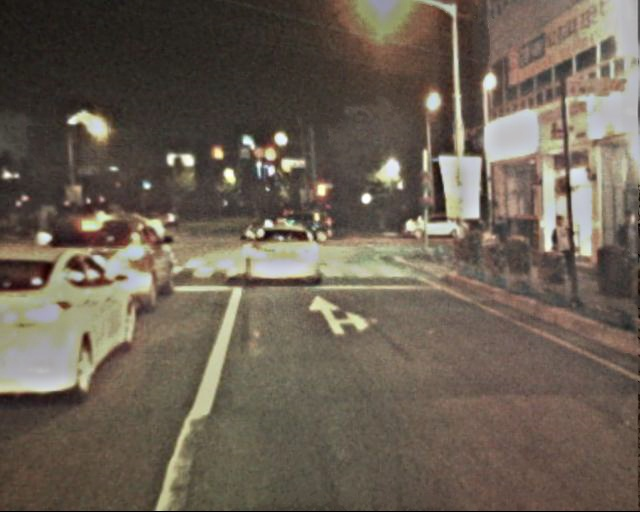person: (611, 210, 640, 302), (546, 214, 576, 287), (24, 207, 63, 237), (449, 216, 470, 267)
